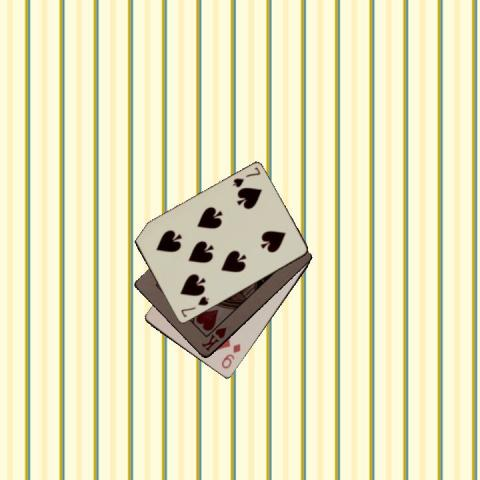7s: (178, 293, 210, 319), (230, 165, 262, 189)
9d: (218, 340, 242, 370)
Kh: (198, 324, 228, 353)
